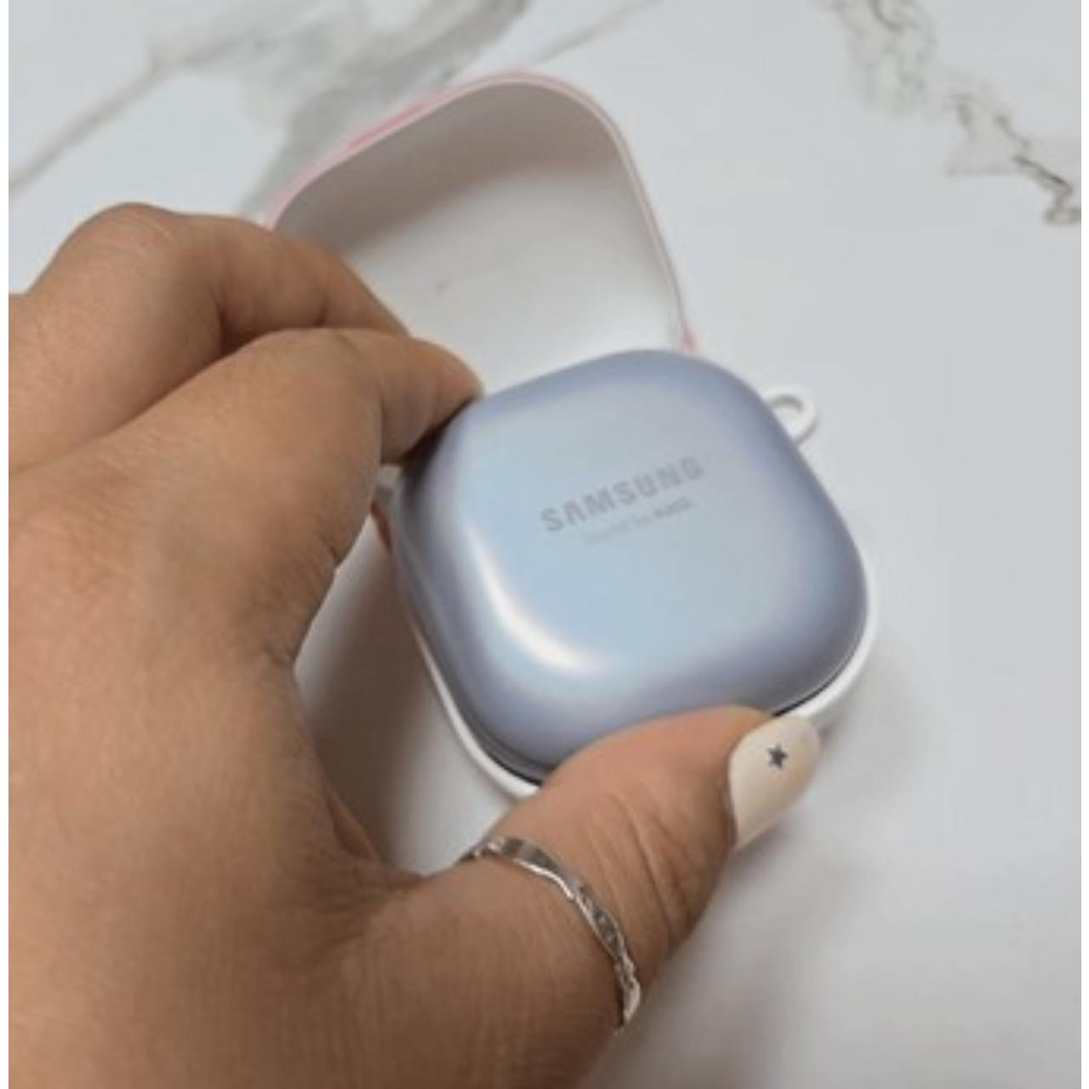Buds: (373, 341, 881, 808)
